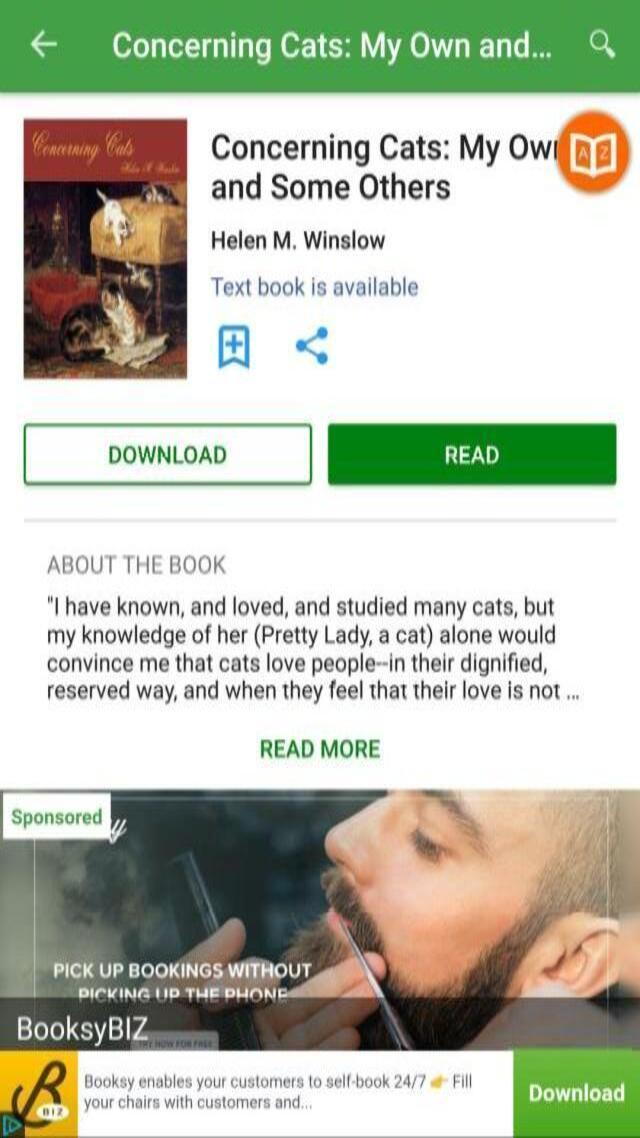Icon: (0, 1052, 78, 1136), (289, 322, 341, 372), (212, 322, 257, 372), (588, 25, 617, 64), (30, 26, 60, 62)
Image: (0, 792, 640, 1046), (24, 117, 184, 379), (552, 107, 634, 198)
Text: (105, 28, 561, 72), (42, 589, 558, 623), (42, 680, 582, 709), (44, 650, 553, 679), (200, 130, 563, 168), (43, 622, 562, 647), (81, 1070, 482, 1094), (207, 170, 459, 208), (203, 272, 427, 301), (41, 550, 231, 583), (206, 223, 390, 257), (47, 959, 317, 980), (73, 982, 294, 1007), (9, 1013, 152, 1047), (82, 1096, 320, 1114), (105, 442, 230, 470)
TextButton: (20, 423, 311, 486), (326, 422, 621, 484), (516, 1057, 637, 1130), (251, 736, 386, 766)
